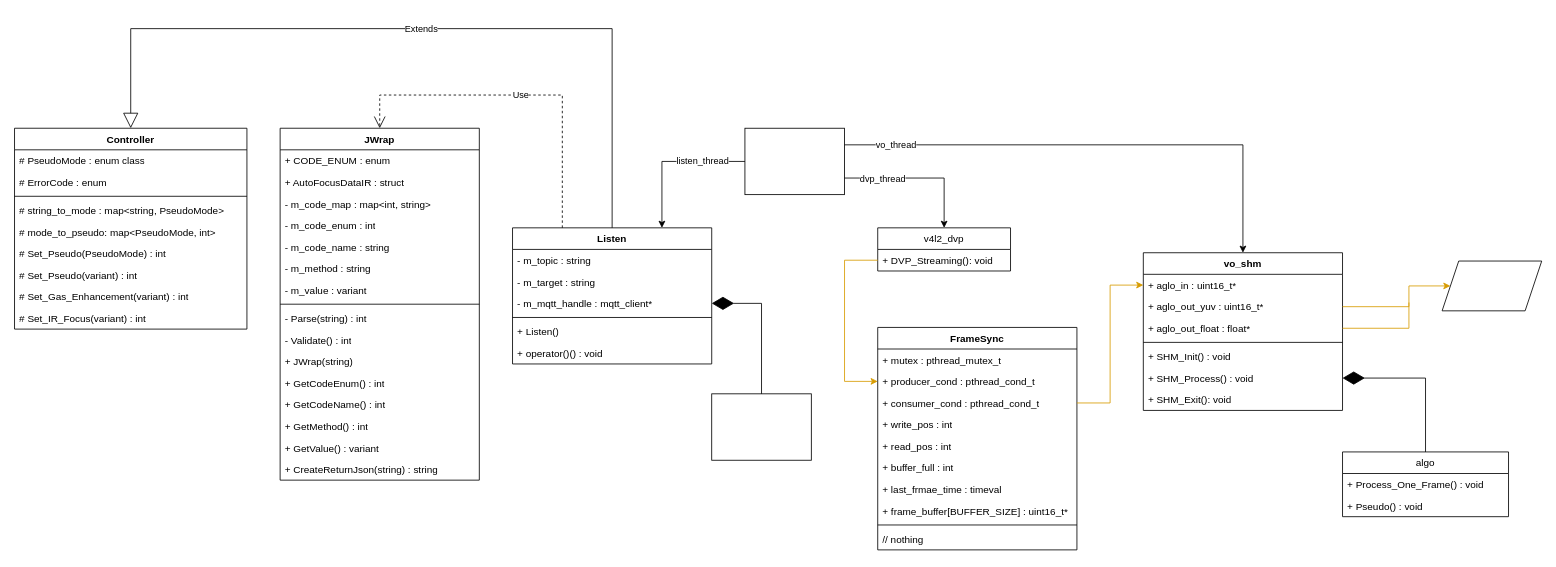
This 1556x567 diagram has some shape labels left out. Each missing label, with the centre of its shape:
main // do nothing: point 794,161
MQTT: point 761,426
SHM: point 1491,285
